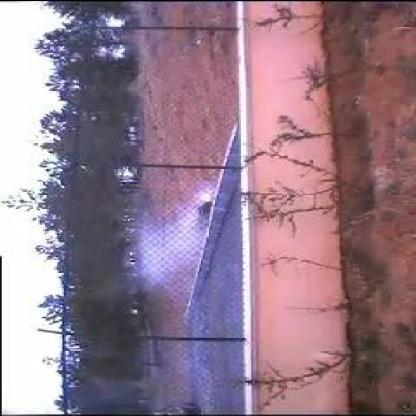-: (132, 168, 240, 370)
